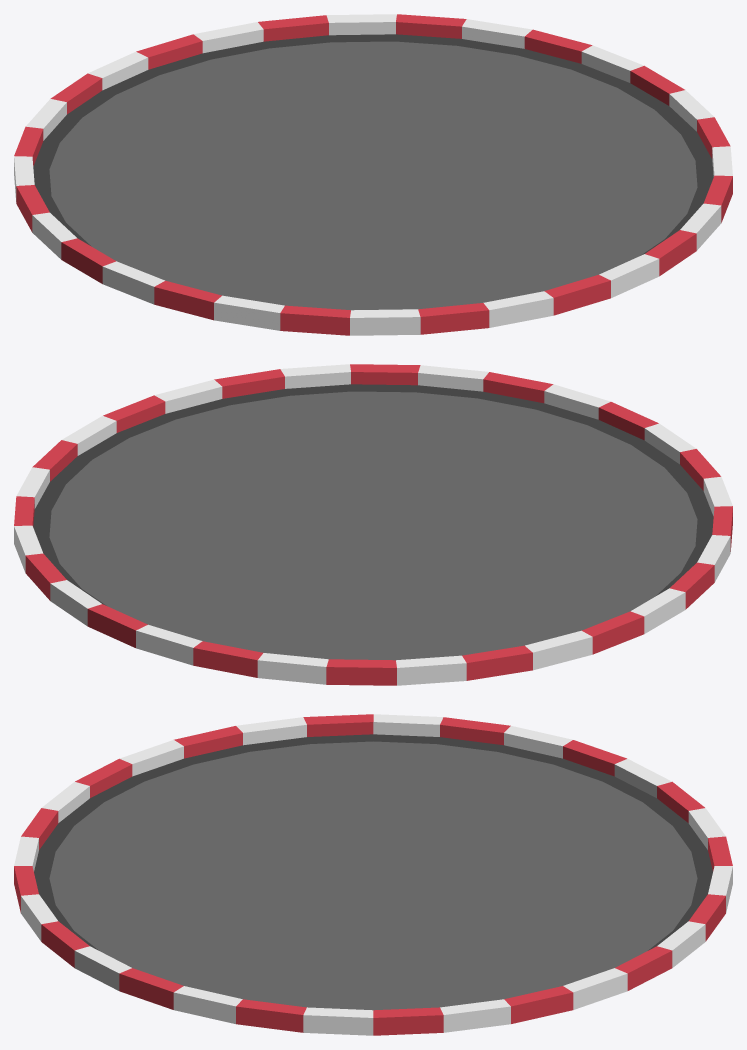
Rendered from track_fix.fbx.
The picture shows the model from 3 angles, top to bottom: view 1: azimuth 30°, elevation 25°; view 2: azimuth 150°, elevation 25°; view 3: azimuth 270°, elevation 25°; orthographic projection.
Visible parts, largest first — view 1: Cylinder; view 2: Cylinder; view 3: Cylinder.
Part boxes in pixels (bbox=[...]): Cylinder: bbox=[14, 14, 732, 335]; Cylinder: bbox=[14, 364, 732, 685]; Cylinder: bbox=[14, 714, 732, 1035].
Size of the model in its own units: 24000 by 654 by 24000.
